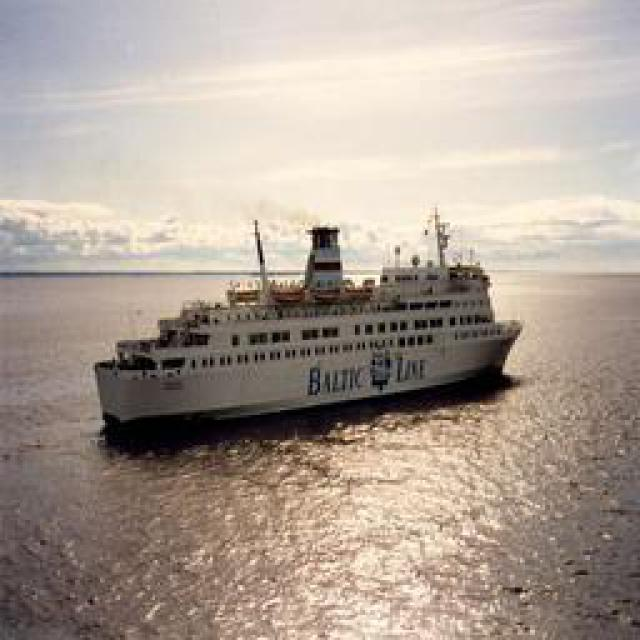Ship: (91, 212, 521, 442)
